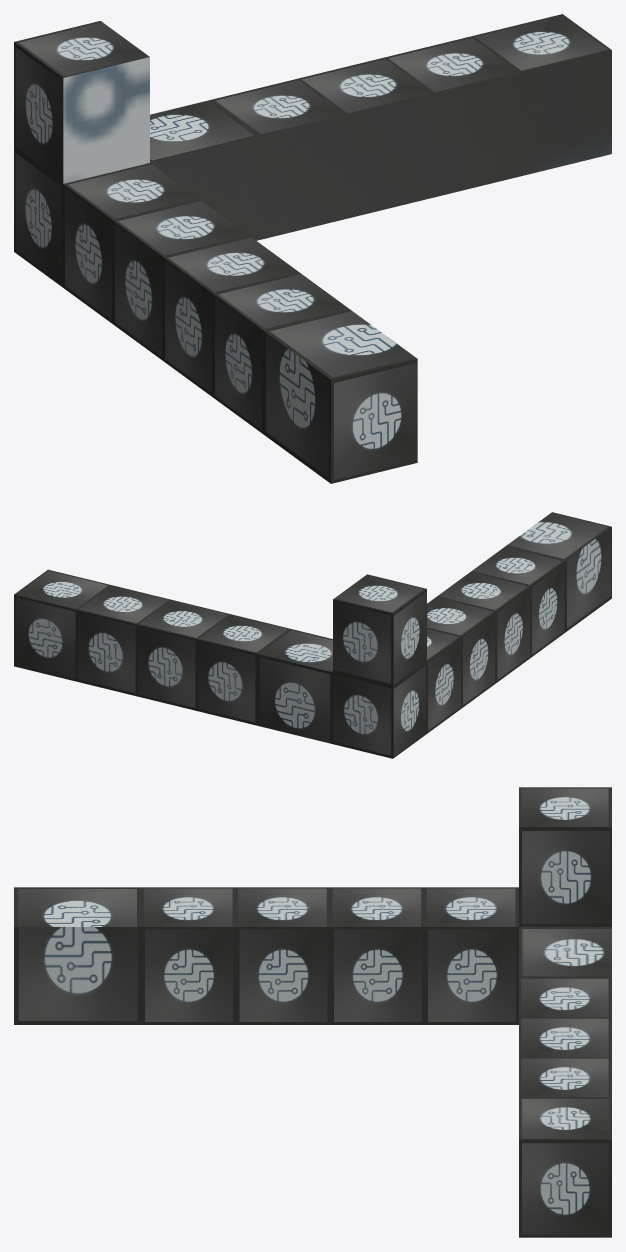
Rendered from Nivel3MPF1.fbx.
3 views of the same model, one above another, from view 1: azimuth 30°, elevation 25°; view 2: azimuth 150°, elevation 25°; view 3: azimuth 270°, elevation 25° (orthographic). The views are drawn at different scales.
Visible parts, largest first — view 1: pCube5; view 2: pCube5; view 3: pCube5.
Boxes of the visible parts, box(x1,y1,x2,y2) form: pCube5: box(14, 14, 611, 483); pCube5: box(14, 512, 611, 758); pCube5: box(14, 787, 611, 1237).
Bounding box in the file's own units: 3.55 × 1.3 × 3.55.
1 material, 1 textured.
